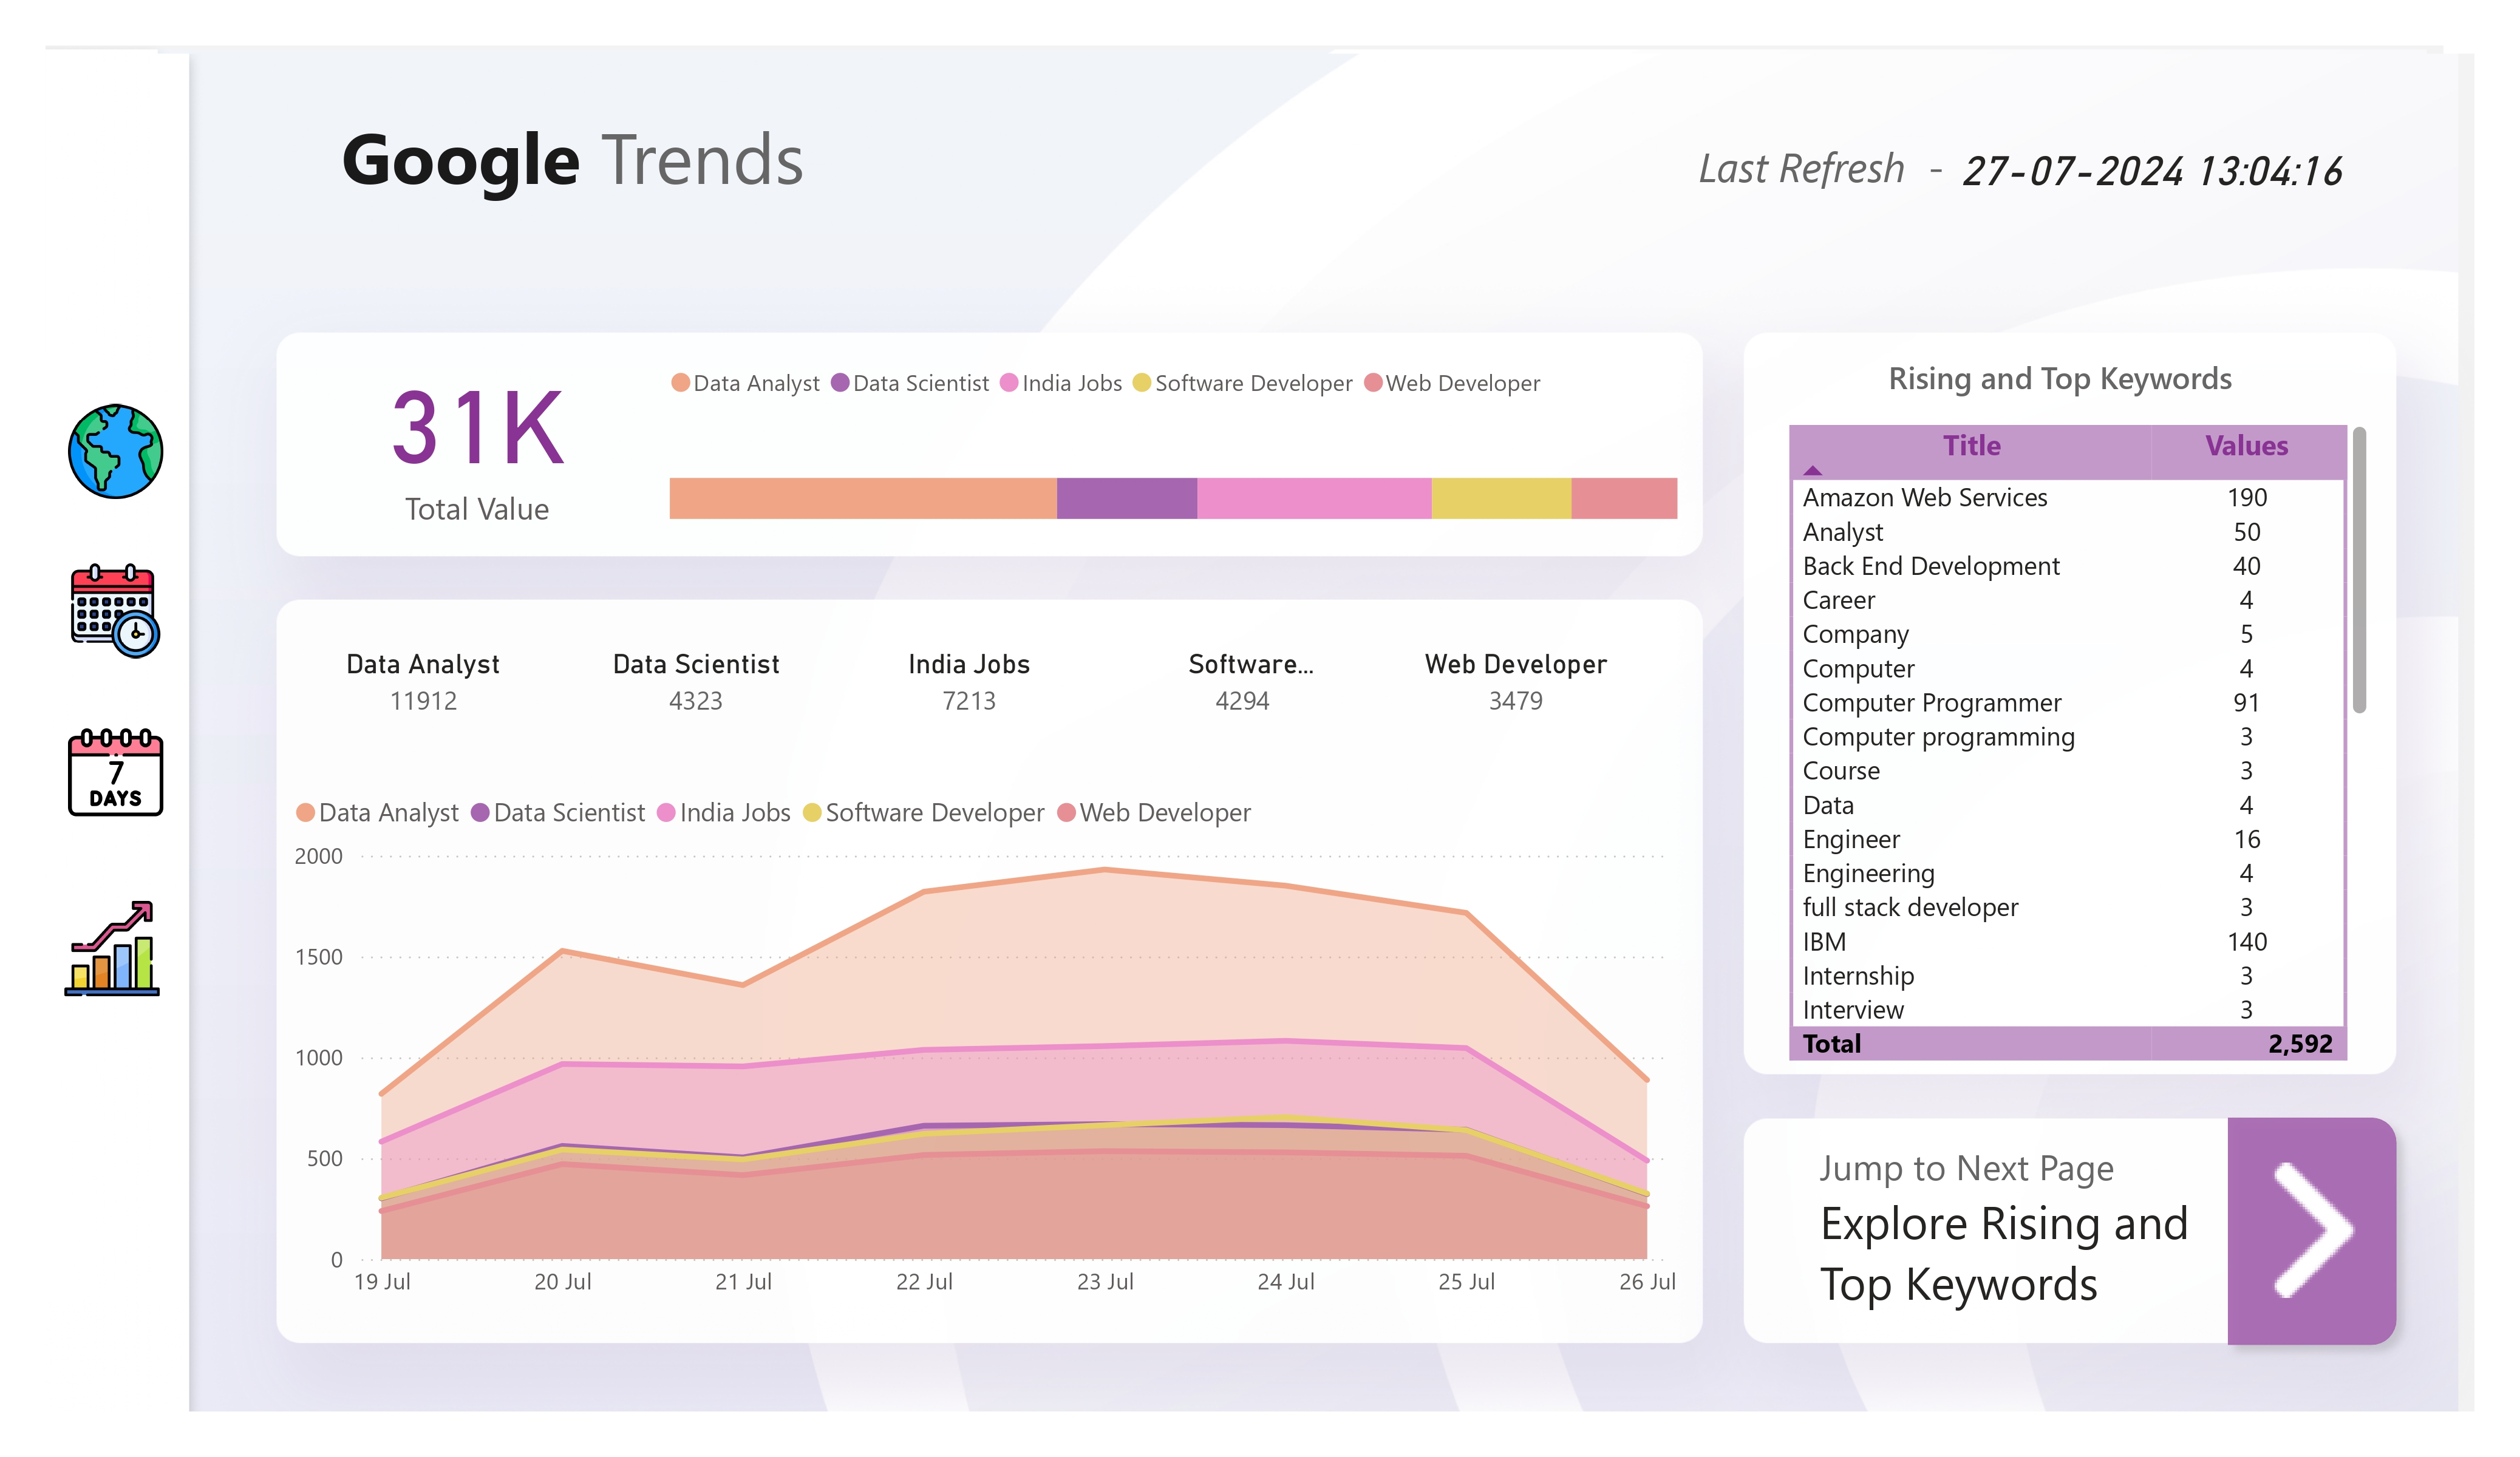

Layout of this report page (visuals, bound fields, positions):
{"tool":"powerbi","page":{"name":"Last 7 days","canvas":[1280,720],"ordinal":2},"visuals":[{"type":"areaChart","fields":{"Category":["API_Last7Days.Date.Variation.Date Hierarchy.Year","API_Last7Days.Date.Variation.Date Hierarchy.Quarter","API_Last7Days.Date.Variation.Date Hierarchy.Month","API_Last7Days.Date.Variation.Date Hierarchy.Day"],"Y":["Sum(API_Last7Days.Value)"],"Series":["API_Last7Days.Keywords"]},"box":[126.2,383.8,738.8,286.2],"z":0},{"type":"advancedSlicerVisual","fields":{"Values":["API_Last7Days.Keywords"]},"box":[126.2,296.2,725,78.8],"z":1000},{"type":"textbox","box":[151.2,27.5,273.8,66.2],"z":2000},{"type":"card","fields":{"Values":["Max(Query1.Refresh Date)"]},"box":[981.2,41.2,256.2,48.8],"z":3000},{"type":"textbox","box":[866.2,43.8,195,48.8],"z":4000},{"type":"card","fields":{"Values":["Sum(API_Last7Days.Value)"]},"box":[141.2,151.2,172.5,107.5],"z":5000},{"type":"barChart","fields":{"Y":["Sum(API_Last7Days.Value)"],"Series":["API_Last7Days.Keywords"]},"box":[323.8,157.5,541.2,127.5],"z":6000},{"type":"tableEx","fields":{"Values":["RIsing_Top.Title","Sum(RIsing_Top.Value)"]},"box":[912.5,195,316.2,345],"z":7000},{"type":"shape","box":[925,150,273.8,48.8],"z":8000},{"type":"actionButton","title":"Next page","box":[1141.2,556.2,106.2,137.5],"z":9000},{"type":"textbox","box":[930,572.5,232.5,111.2],"z":10000},{"type":"actionButton","box":[12.3,188.8,50,50],"z":11000},{"type":"actionButton","box":[12.3,272.5,50,50],"z":12000},{"type":"actionButton","box":[12.3,357.5,50,50],"z":13000},{"type":"actionButton","box":[9.8,451.2,50,50],"z":14000}]}

Visuals, with their boxes on the page's 1280x720 design canvas (x1, y1, x2, y2). These are canvas units, not pixel positions in the 2520x1457 screenshot, which may show the page scaled, cropped or inside an application window:
areaChart - API_Last7Days.Date.Variation.Date Hierarchy.Year x API_Last7Days.Date.Variation.Date Hierarchy.Quarter: left=126, top=384, right=865, bottom=670
advancedSlicerVisual - API_Last7Days.Keywords: left=126, top=296, right=851, bottom=375
textbox: left=151, top=28, right=425, bottom=94
card - Max(Query1.Refresh Date): left=981, top=41, right=1237, bottom=90
textbox: left=866, top=44, right=1061, bottom=93
card - Sum(API_Last7Days.Value): left=141, top=151, right=314, bottom=259
barChart - Sum(API_Last7Days.Value) x API_Last7Days.Keywords: left=324, top=158, right=865, bottom=285
tableEx - RIsing_Top.Title x Sum(RIsing_Top.Value): left=912, top=195, right=1229, bottom=540
shape: left=925, top=150, right=1199, bottom=199
"Next page" actionButton: left=1141, top=556, right=1247, bottom=694
textbox: left=930, top=572, right=1162, bottom=684
actionButton: left=12, top=189, right=62, bottom=239
actionButton: left=12, top=272, right=62, bottom=322
actionButton: left=12, top=358, right=62, bottom=408
actionButton: left=10, top=451, right=60, bottom=501
